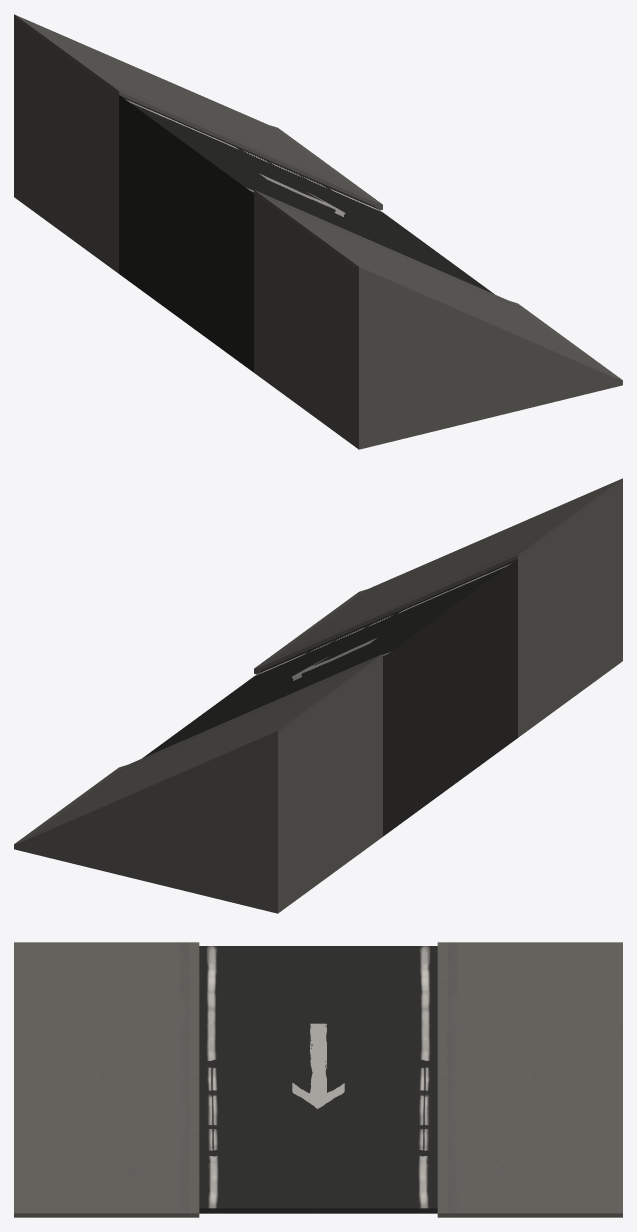
File: SlopeDOWN.fbx
3 views of the same model, one above another, from view 1: azimuth 30°, elevation 25°; view 2: azimuth 150°, elevation 25°; view 3: azimuth 270°, elevation 25° (orthographic). The views are drawn at different scales.
Visible parts, largest first — view 1: SlopeDown; view 2: SlopeDown; view 3: SlopeDown.
Boxes of the visible parts, bbox=[...] form: SlopeDown: bbox=[14, 14, 622, 449]; SlopeDown: bbox=[14, 478, 622, 913]; SlopeDown: bbox=[14, 942, 622, 1217].
Bounding box in the file's own units: 3140 × 7104 × 2079.
Materials: 3 (3 with a texture image).
